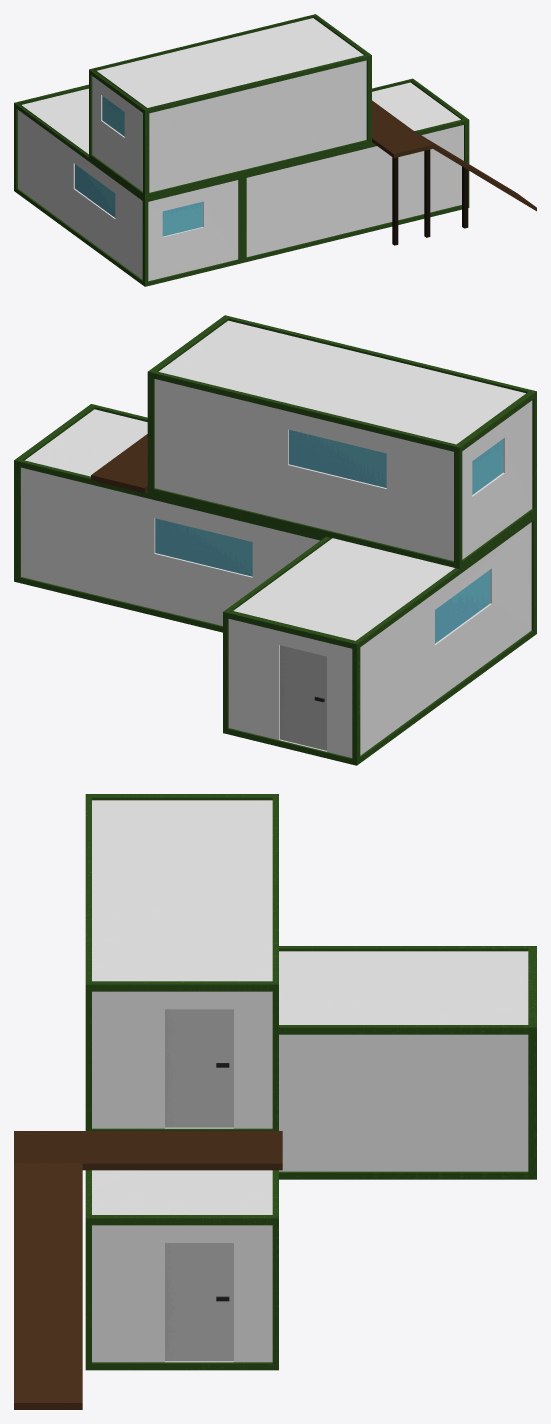
The model's file is container-office-stack.glb.
3 views of the same model, one above another, from view 1: azimuth 30°, elevation 25°; view 2: azimuth 150°, elevation 25°; view 3: azimuth 270°, elevation 25° (orthographic). The views are drawn at different scales.
Visible parts, largest first — view 1: Office Container Stack; view 2: Office Container Stack; view 3: Office Container Stack.
Part boxes in pixels (x1=…): Office Container Stack: x1=14, y1=14, x2=536, y2=286; Office Container Stack: x1=14, y1=315, x2=536, y2=765; Office Container Stack: x1=14, y1=794, x2=536, y2=1409.
Size of the model in its own units: 11.45 by 5.2 by 8.11.
Materials: 1 (1 with a texture image).
